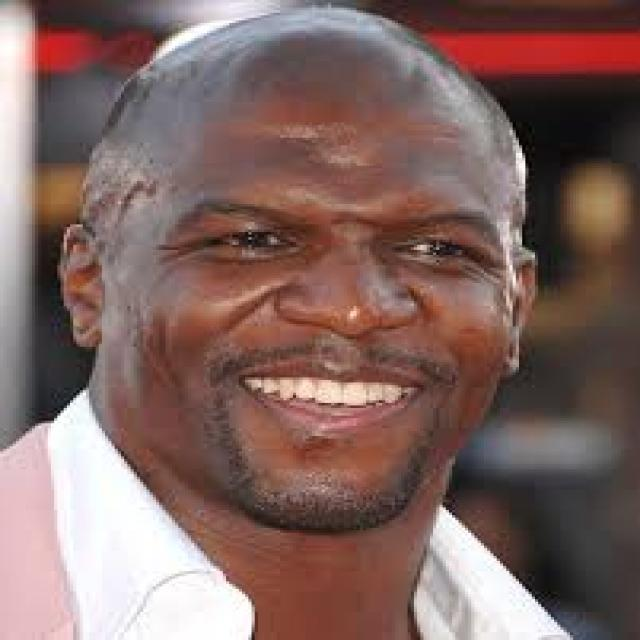bald: (57, 3, 571, 238)
